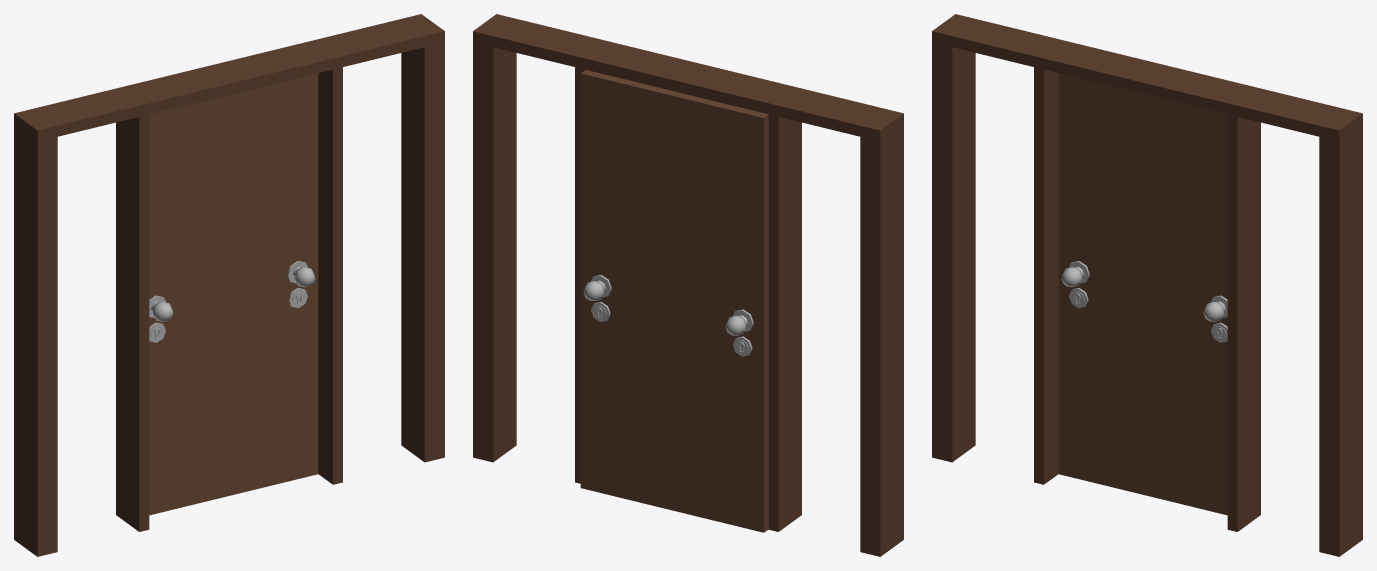
Rendered from Doors.fbx.
3 renders of one model, left to right at view 1: azimuth 30°, elevation 25°; view 2: azimuth 150°, elevation 25°; view 3: azimuth 330°, elevation 25°, orthographic.
Visible parts, largest first — view 1: WoodDoorSingle_R, Doorframe_Double, Doorframe_Single, WoodDoorSingle_L; view 2: WoodDoorSingle_L, Doorframe_Double, Doorframe_Single, WoodDoorSingle_R; view 3: WoodDoorSingle_R, Doorframe_Double, Doorframe_Single, WoodDoorSingle_L.
Boxes of the visible parts, box(x1,y1,x2,y2) form: WoodDoorSingle_R: box(149, 73, 318, 515); Doorframe_Double: box(14, 14, 444, 556); Doorframe_Single: box(116, 44, 342, 531); WoodDoorSingle_L: box(149, 112, 317, 473); WoodDoorSingle_L: box(581, 70, 768, 532); Doorframe_Double: box(473, 14, 903, 556); Doorframe_Single: box(575, 39, 801, 531); WoodDoorSingle_R: box(580, 70, 753, 487); WoodDoorSingle_R: box(1059, 73, 1227, 515); Doorframe_Double: box(932, 14, 1362, 556); Doorframe_Single: box(1034, 39, 1260, 531); WoodDoorSingle_L: box(1058, 73, 1227, 476).
Bounding box in the file's own units: 2 × 0.3456 × 2.
